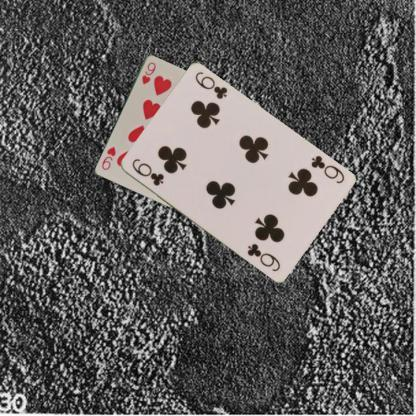6c: (308, 152, 346, 185), (129, 155, 165, 188)
9h: (139, 60, 157, 86)
